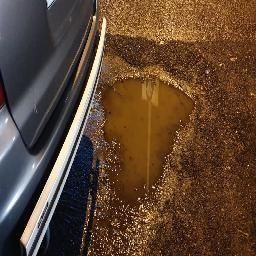water accumulation: (98, 69, 196, 213)
